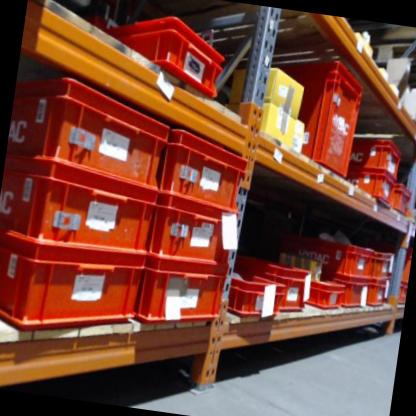pallet: (281, 17, 416, 70)
small_load_carrier: (4, 72, 172, 206), (0, 157, 155, 271), (0, 241, 142, 344), (265, 54, 368, 177), (100, 7, 228, 96), (154, 128, 248, 225), (145, 191, 240, 278), (136, 261, 228, 337), (284, 230, 378, 287), (225, 271, 283, 333), (259, 259, 313, 318), (351, 134, 406, 178), (305, 276, 346, 318), (346, 170, 399, 201), (333, 273, 373, 311), (389, 183, 416, 215), (372, 251, 396, 286), (237, 252, 268, 279), (369, 282, 389, 307), (396, 279, 407, 303)
